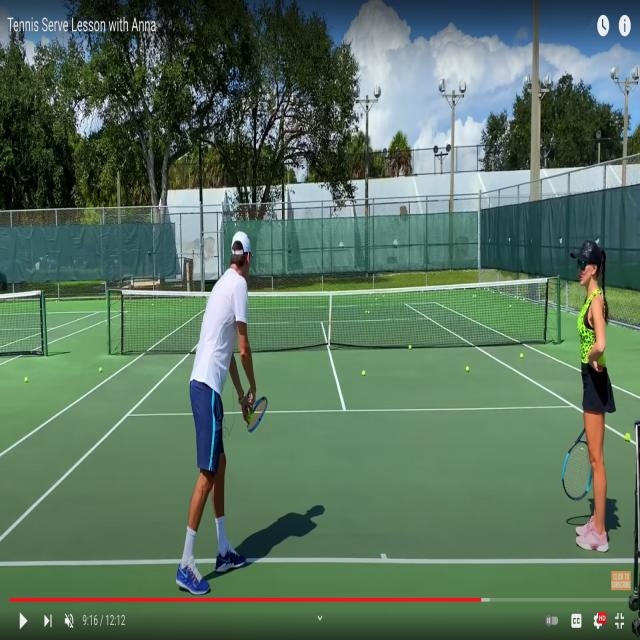ball: (625, 433, 630, 442), (520, 353, 524, 359), (466, 366, 470, 372), (24, 377, 28, 383), (408, 345, 412, 350), (362, 371, 366, 376), (99, 367, 102, 373), (365, 310, 368, 314), (472, 294, 475, 298), (474, 294, 477, 298), (509, 304, 512, 308), (368, 310, 370, 315), (369, 292, 372, 295), (514, 295, 517, 298), (383, 294, 385, 298), (380, 291, 382, 295), (442, 304, 444, 308), (464, 287, 466, 291), (523, 298, 525, 301), (517, 296, 519, 299), (484, 287, 486, 290), (476, 287, 478, 290), (478, 287, 480, 290), (375, 298, 377, 300), (488, 288, 489, 291), (493, 291, 494, 293)
